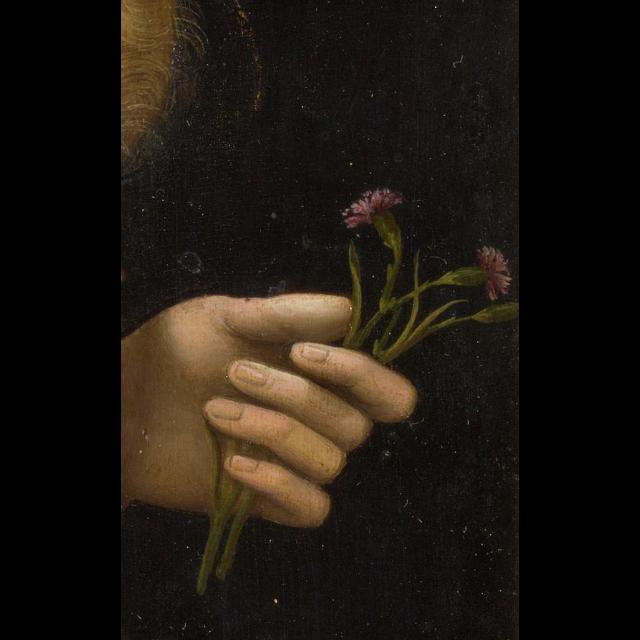Flower: (336, 177, 409, 235), (478, 245, 512, 301)
